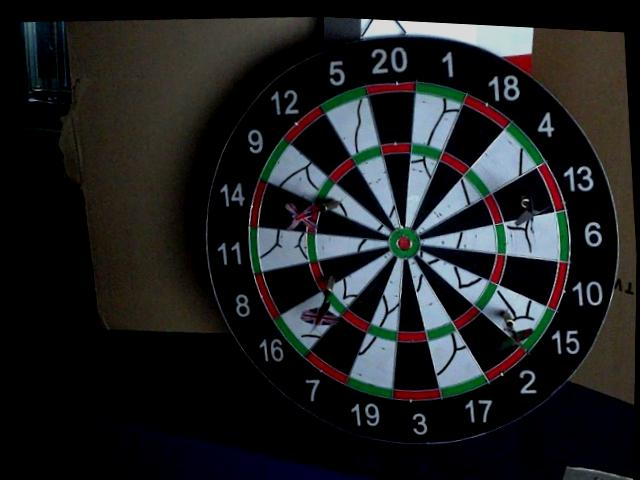single_13: (494, 170, 556, 219)
single_15: (482, 288, 547, 340)
single_8: (323, 248, 388, 281)
single_9: (328, 187, 386, 233)
